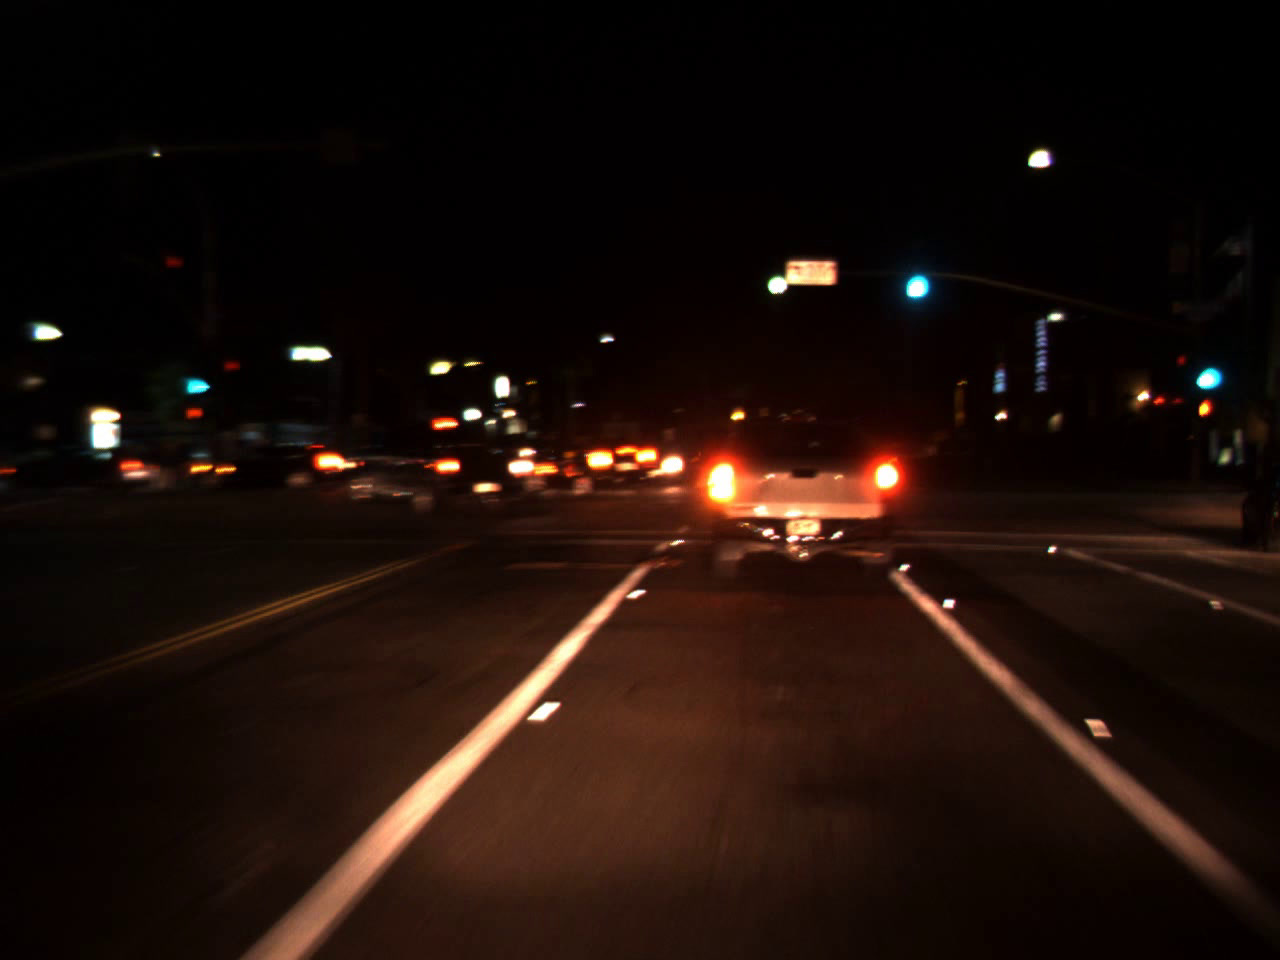go: (896, 246, 933, 306), (1190, 340, 1226, 397), (755, 253, 792, 301), (177, 360, 214, 399)
